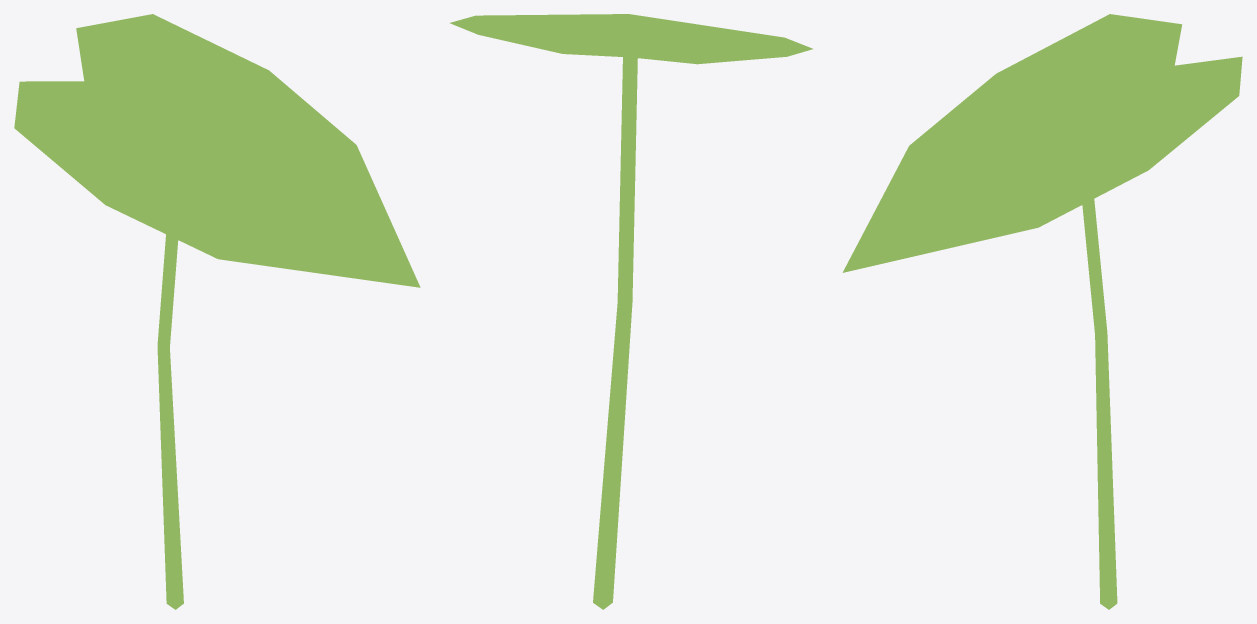
The model's file is Plant_d_OneS_03.fbx.
The picture shows the model from 3 angles, left to right: view 1: azimuth 30°, elevation 25°; view 2: azimuth 150°, elevation 25°; view 3: azimuth 270°, elevation 25°; orthographic projection. The views are drawn at different scales.
Visible parts, largest first — view 1: Plant_d_OneS_03; view 2: Plant_d_OneS_03; view 3: Plant_d_OneS_03.
Part boxes in pixels (box(x1,y1,x2,y2)): Plant_d_OneS_03: box(14, 14, 420, 609); Plant_d_OneS_03: box(450, 14, 812, 609); Plant_d_OneS_03: box(842, 14, 1242, 609).
Size of the model in its own units: 0.4731 by 0.7909 by 0.5377.
